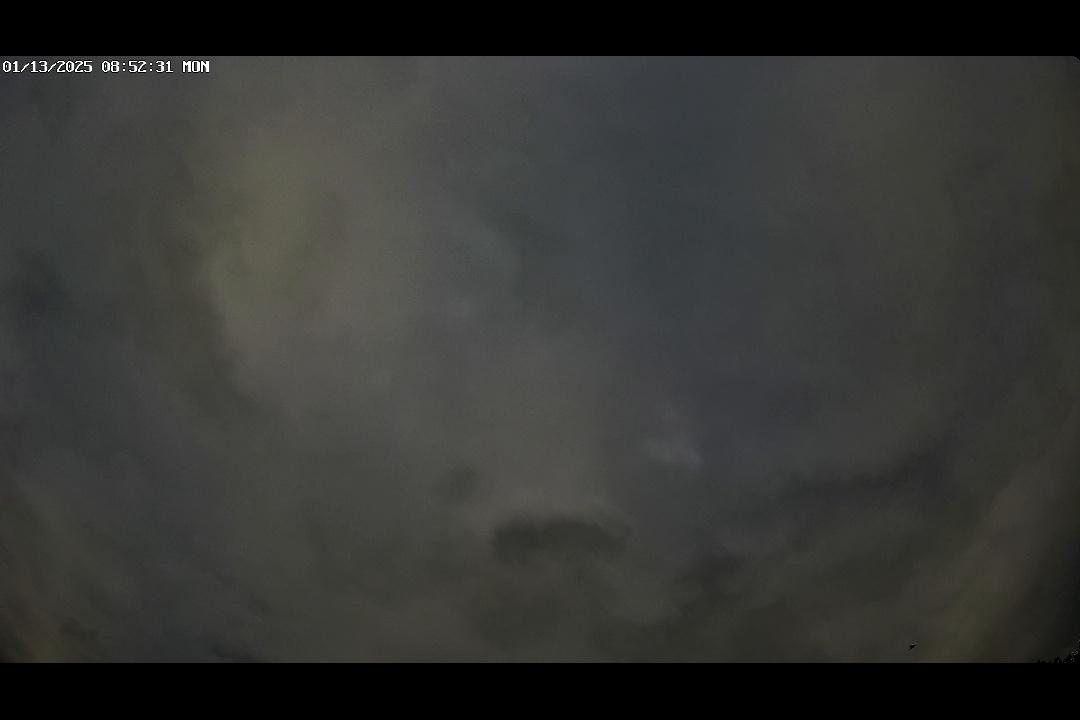WildLife: (902, 638, 922, 656)
